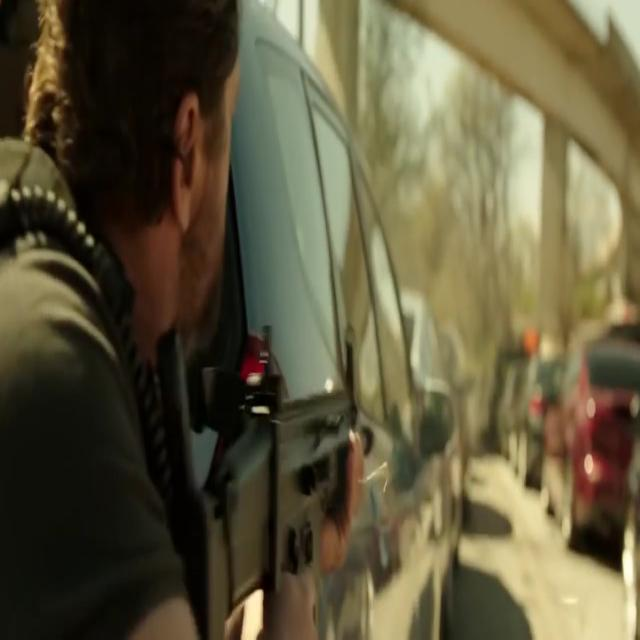Weapon: (140, 296, 435, 598)
